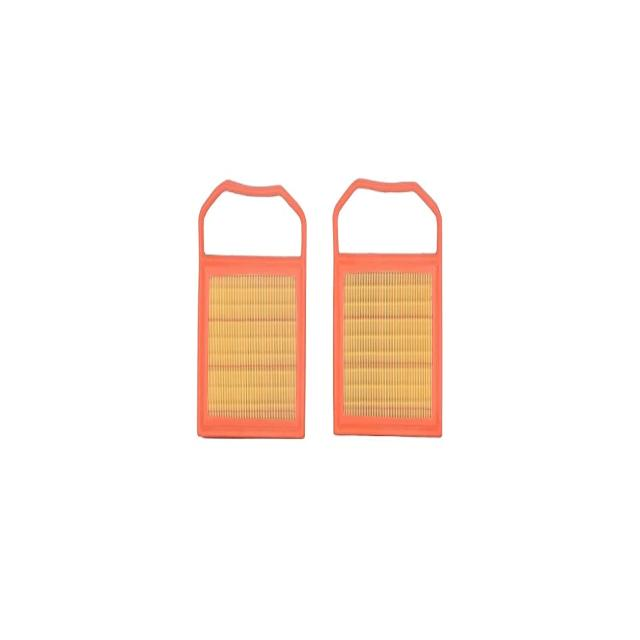air_filter: (192, 172, 312, 449), (327, 176, 447, 448)
